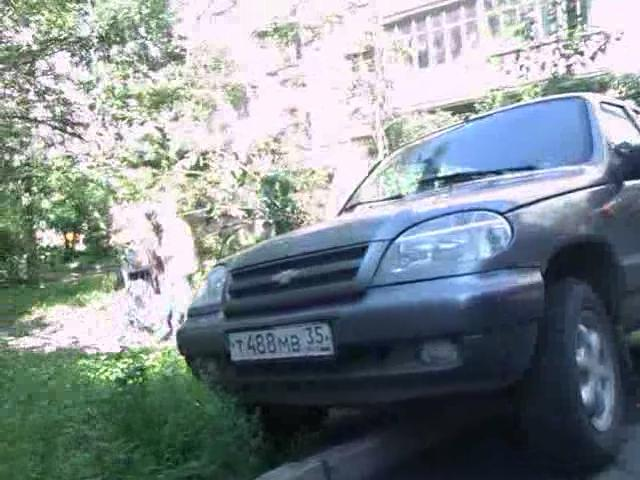car license plate: (227, 318, 339, 372)
